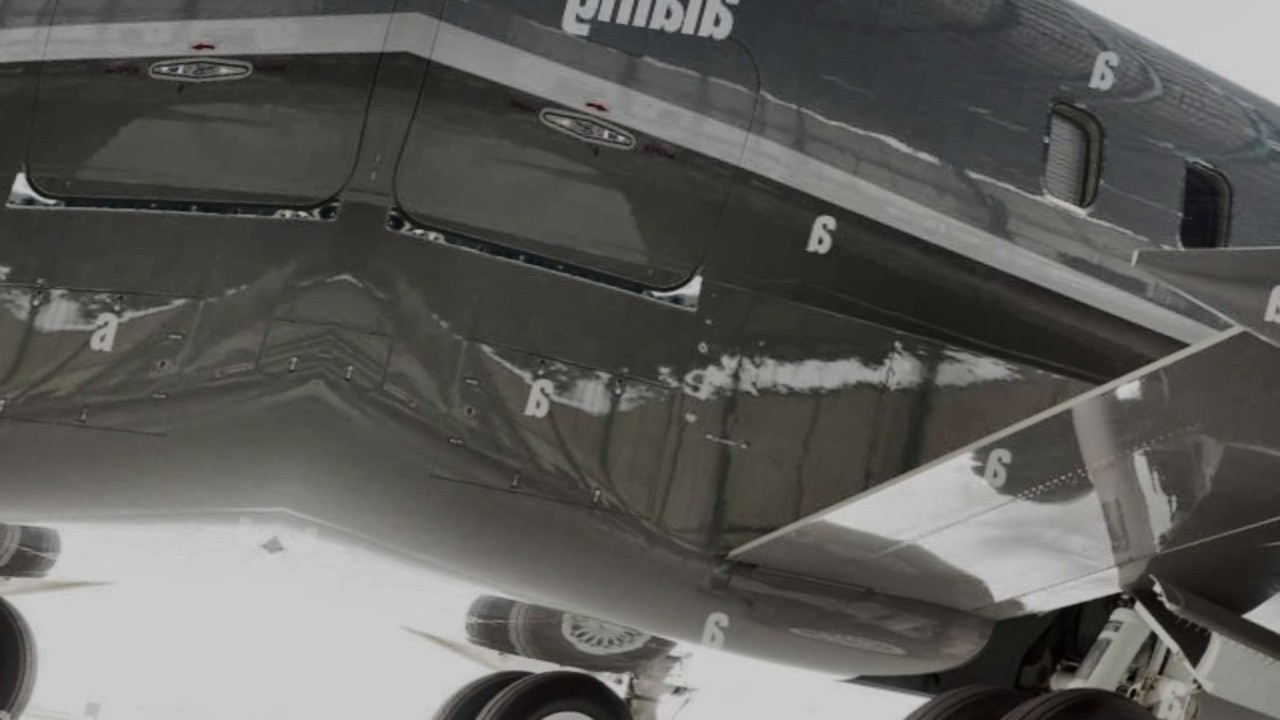wheel: (406, 652, 664, 720), (402, 659, 550, 720), (0, 559, 51, 720), (0, 583, 55, 720)
